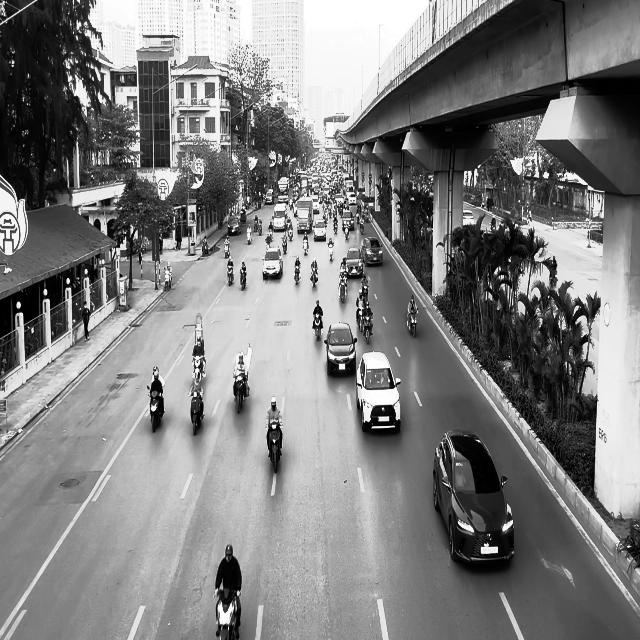car: (432, 428, 515, 566), (356, 350, 401, 432), (324, 322, 357, 375), (262, 247, 283, 280), (361, 237, 383, 266), (345, 248, 363, 277), (227, 216, 241, 235), (462, 210, 474, 227)
motorbike: (214, 588, 240, 640), (147, 385, 164, 433), (266, 422, 282, 473), (189, 389, 204, 435), (233, 373, 249, 413), (407, 308, 418, 337), (192, 355, 204, 381), (312, 313, 323, 341), (363, 313, 373, 343), (338, 274, 347, 303), (310, 265, 318, 286), (226, 265, 234, 286), (294, 263, 301, 285), (240, 270, 246, 290), (328, 241, 333, 260)
